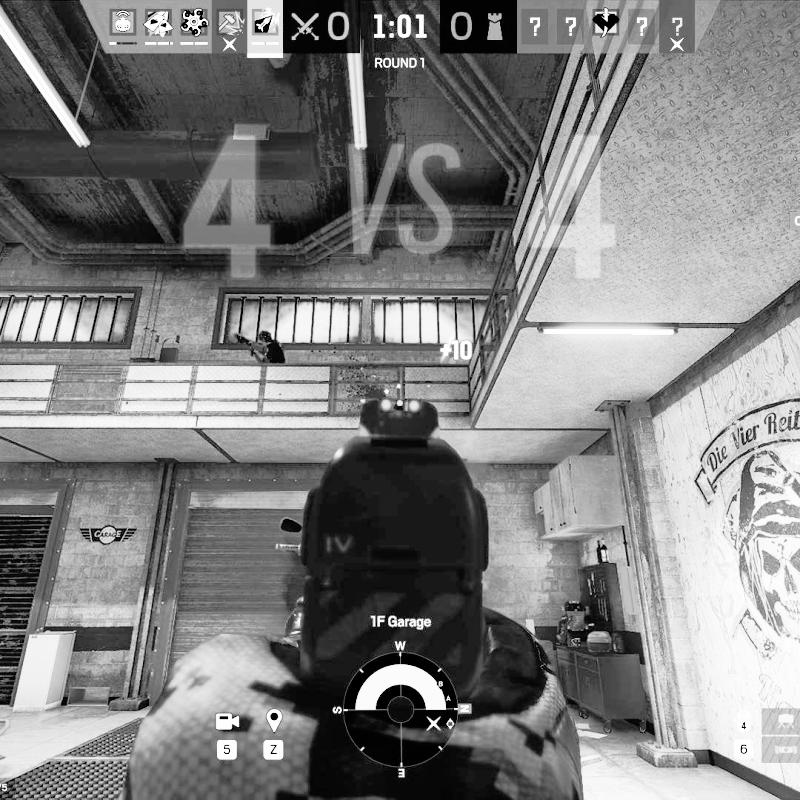Character: (234, 328, 288, 366)
Head: (258, 330, 274, 345)
